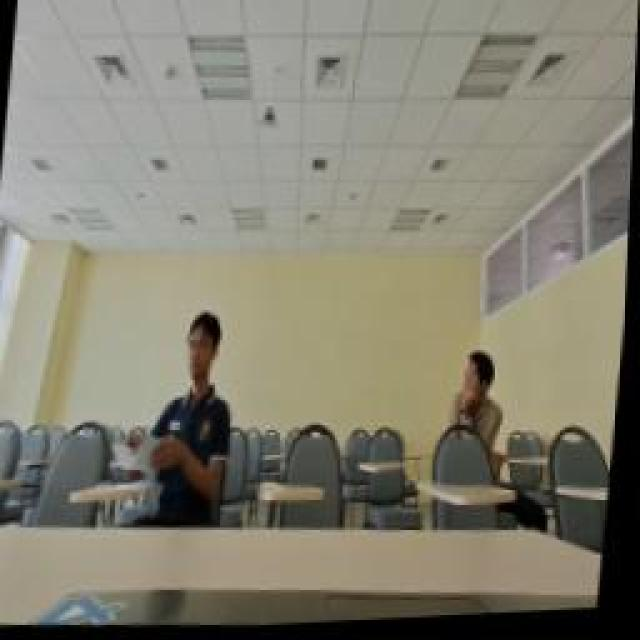study: (112, 305, 240, 533), (438, 348, 510, 490)
